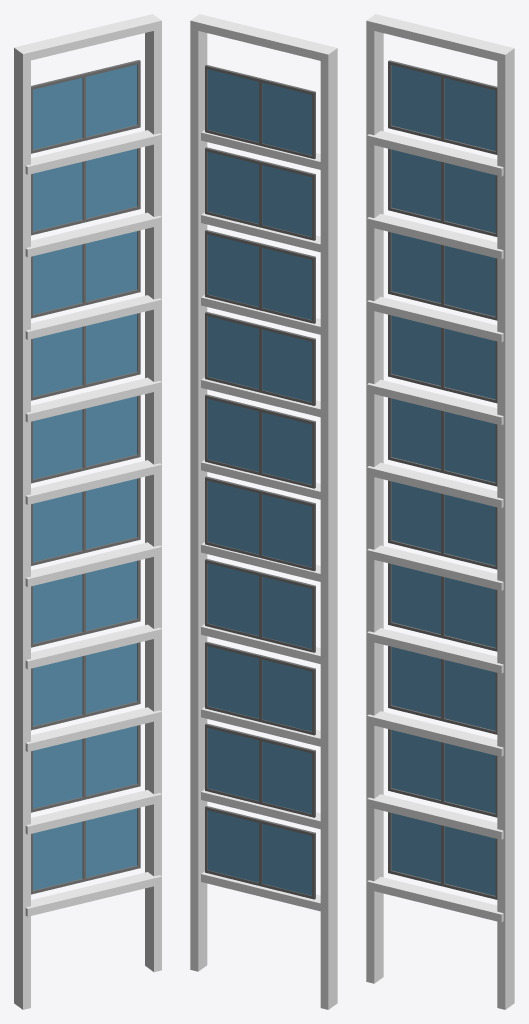
The model's file is CuaSoLon.glb.
The picture shows the model from 3 angles, left to right: view 1: azimuth 30°, elevation 25°; view 2: azimuth 150°, elevation 25°; view 3: azimuth 330°, elevation 25°; orthographic projection.
Parts seen in each view (by area): view 1: Line003, Box281, Box286, Box283, Box285, Box288, Box284, Box289, Box282, Box287, Box290, Box071 (+19 smaller); view 2: Line003, Box286, Box281, Box285, Box284, Box289, Box287, Box283, Box288, Box290, Box282, Rectangle107 (+19 smaller); view 3: Line003, Box281, Box286, Box283, Box285, Box288, Box284, Box289, Box287, Box282, Box290, Box069 (+19 smaller).
Part boxes in pixels (x1,y1,x2,y2): Line003: (14,14,161,1009); Box281: (33,64,137,149); Box286: (33,478,137,561); Box283: (33,231,137,314); Box285: (33,396,137,479); Box288: (33,643,137,726); Box284: (33,313,137,396); Box289: (33,726,137,808); Box282: (33,148,137,231); Box287: (33,561,137,643); Box290: (33,808,137,890); Box071: (25,707,161,751); Line003: (190,14,337,1009); Box286: (208,481,311,567); Box281: (208,69,311,155); Box285: (208,399,311,484); Box284: (208,316,311,402); Box289: (208,728,311,813); Box287: (208,563,311,648); Box283: (208,234,311,319); Box288: (208,646,311,731); Box290: (208,810,311,895); Box282: (208,152,311,236); Rectangle107: (205,476,315,571); Line003: (366,14,514,1009); Box281: (391,65,495,150); Box286: (391,481,495,565); Box283: (391,232,495,316); Box285: (391,398,495,482); Box288: (391,647,495,730); Box284: (391,315,495,399); Box289: (391,730,495,813); Box287: (391,564,495,647); Box282: (391,149,495,232); Box290: (391,813,495,895); Box069: (367,545,503,590).
Size of the model in its own units: 5.28 by 34.79 by 0.7492.
